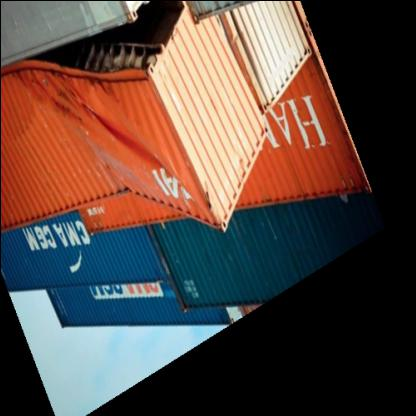Damage: (3, 40, 204, 196)
